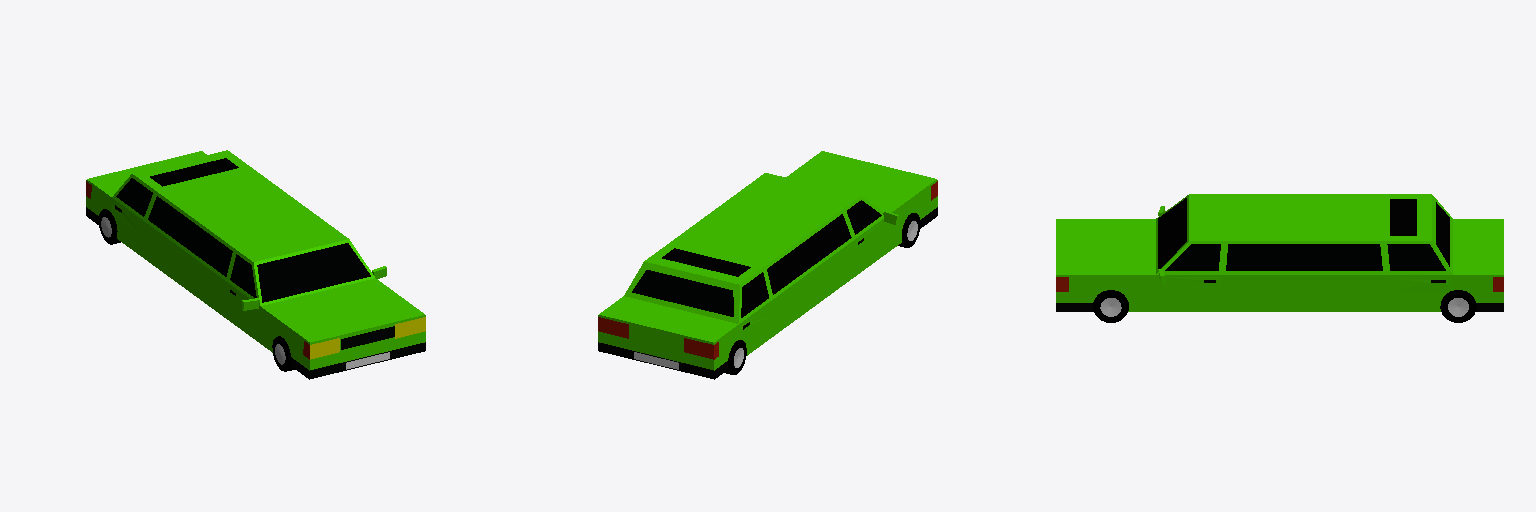
Rendered from limo.obj.
3 renders of one model, left to right at view 1: azimuth 30°, elevation 25°; view 2: azimuth 150°, elevation 25°; view 3: azimuth 270°, elevation 25°, orthographic.
Visible parts, largest first — view 1: Body1; view 2: Body1; view 3: Body1, WheelRL, WheelFL.
Boxes of the visible parts, x1,y1,x2,y2 form: Body1: [86, 150, 425, 379]; Body1: [598, 151, 937, 379]; Body1: [1056, 194, 1503, 311]; WheelRL: [1440, 290, 1476, 322]; WheelFL: [1093, 290, 1128, 322].
Size of the model in its own units: 1.82 by 0.9336 by 4.91.